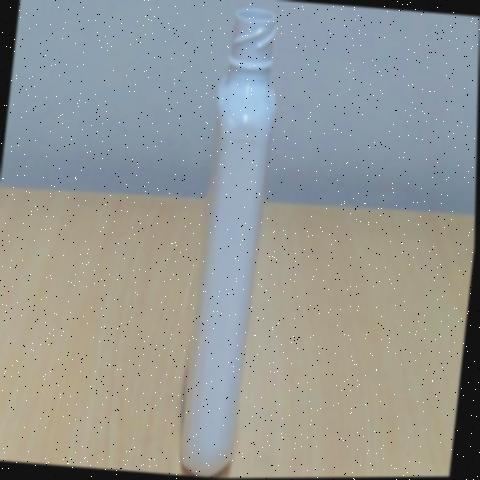bottle: (181, 8, 275, 476)
